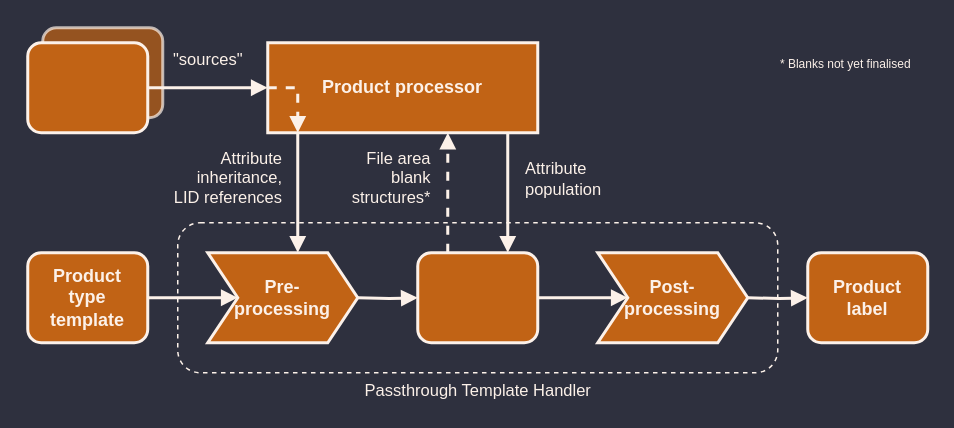
The diagram is 954 pixels wide and 428 high, and some of its shapes have lost their labels. Here are the shapes that lost their labels. From the top down, the box of each, then its label:
(26, 40, 148, 134): Input & calibration products
(416, 250, 538, 344): Partial label
